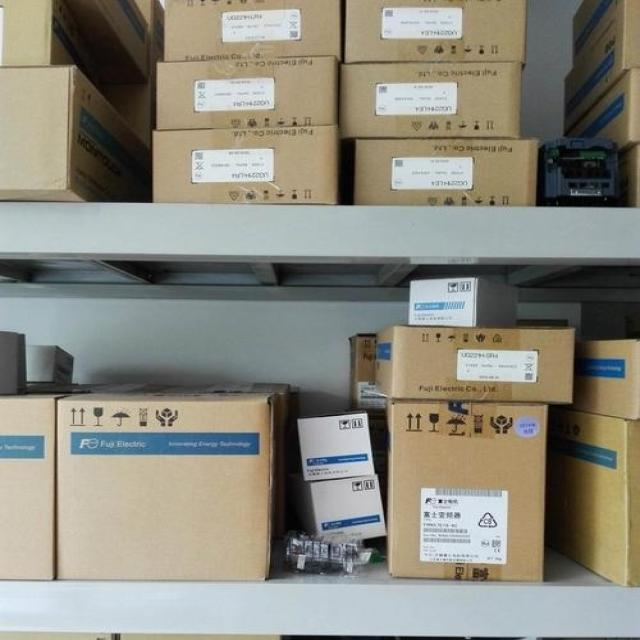box: (56, 393, 279, 580), (73, 383, 288, 538), (387, 397, 548, 583), (0, 65, 152, 203), (545, 402, 640, 589), (0, 393, 83, 580), (374, 327, 573, 404), (152, 125, 338, 205), (338, 62, 522, 139), (156, 54, 339, 128), (355, 138, 538, 206), (344, 0, 529, 63), (164, 1, 339, 60), (563, 6, 640, 135), (58, 0, 148, 82), (291, 472, 390, 540), (564, 67, 640, 151), (408, 278, 518, 329), (573, 339, 640, 422), (297, 413, 375, 480), (0, 0, 76, 68), (572, 0, 640, 65), (99, 81, 152, 149), (349, 333, 388, 412), (26, 345, 76, 385)
